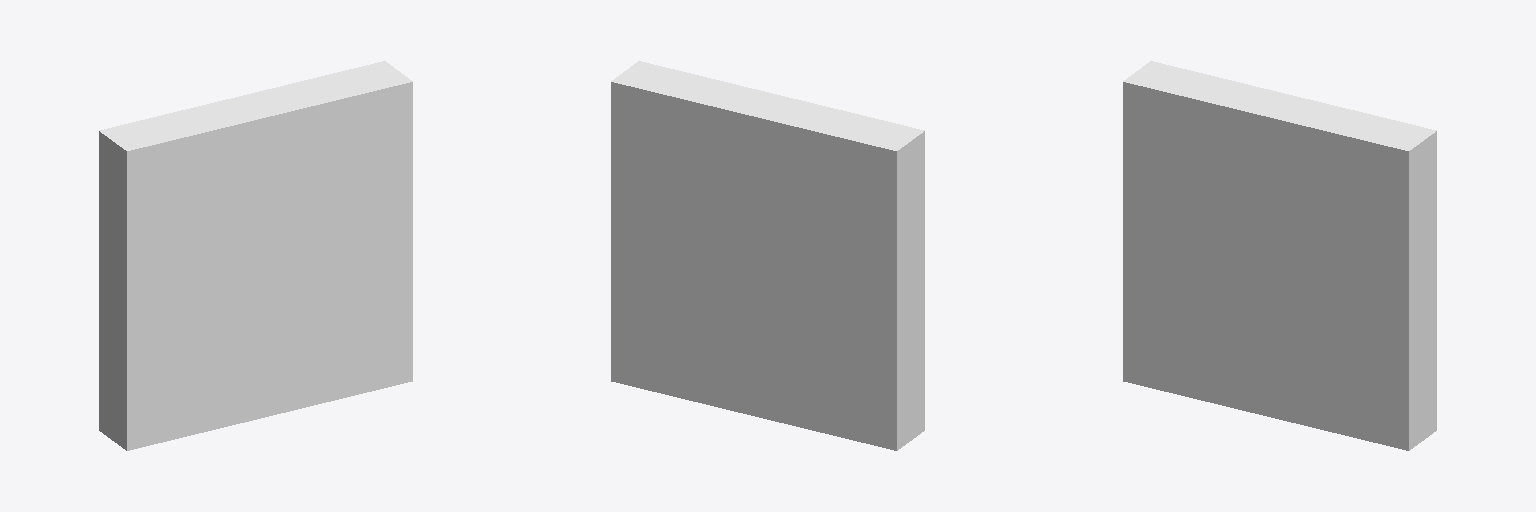
File: Wall_Piece.obj
3 views of the same model, side by side, from view 1: azimuth 30°, elevation 25°; view 2: azimuth 150°, elevation 25°; view 3: azimuth 330°, elevation 25° (orthographic).
Visible parts, largest first — view 1: object 1; view 2: object 1; view 3: object 1.
Boxes of the visible parts, <box> form: object 1: <box>99,61,412,450</box>; object 1: <box>611,61,924,450</box>; object 1: <box>1123,61,1436,450</box>.
Bounding box in the file's own units: 6.4 × 6.4 × 1.1.